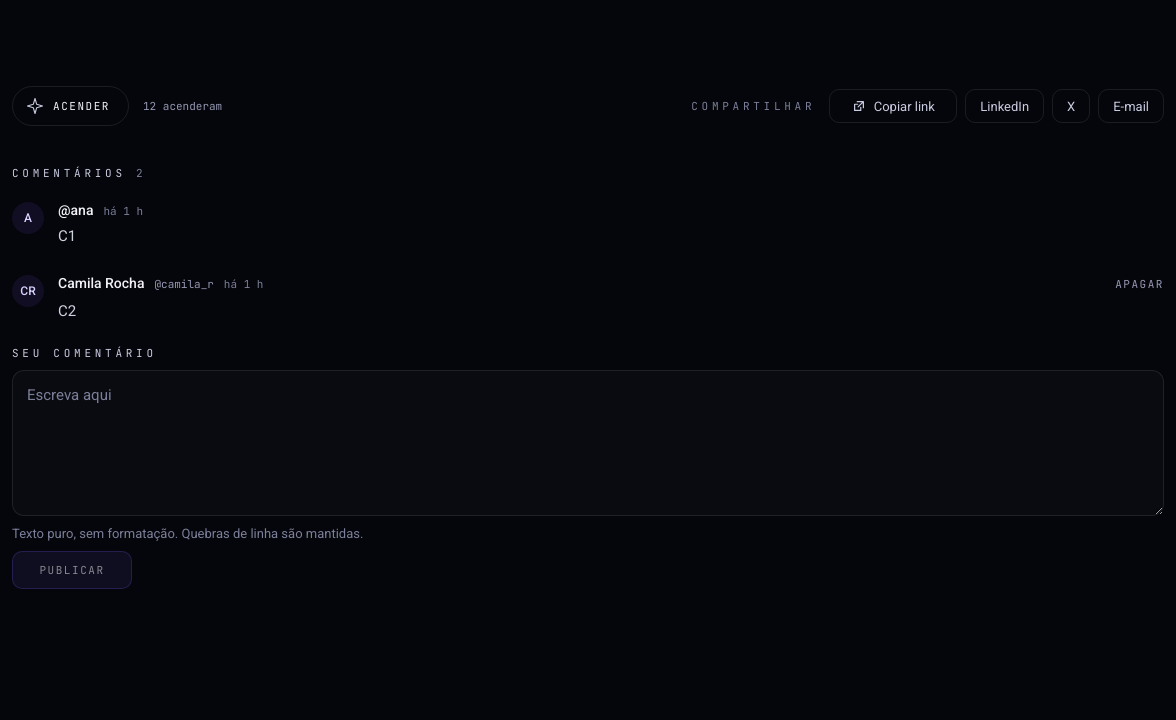
Scenario: fim de artigo, logado › acender é otimista e mostra a contagem como frase
Expected: the text "12 acenderam" is shown, [143,99,222,113]
Click the button "ACENDER": (70, 106) [12,86,129,126]
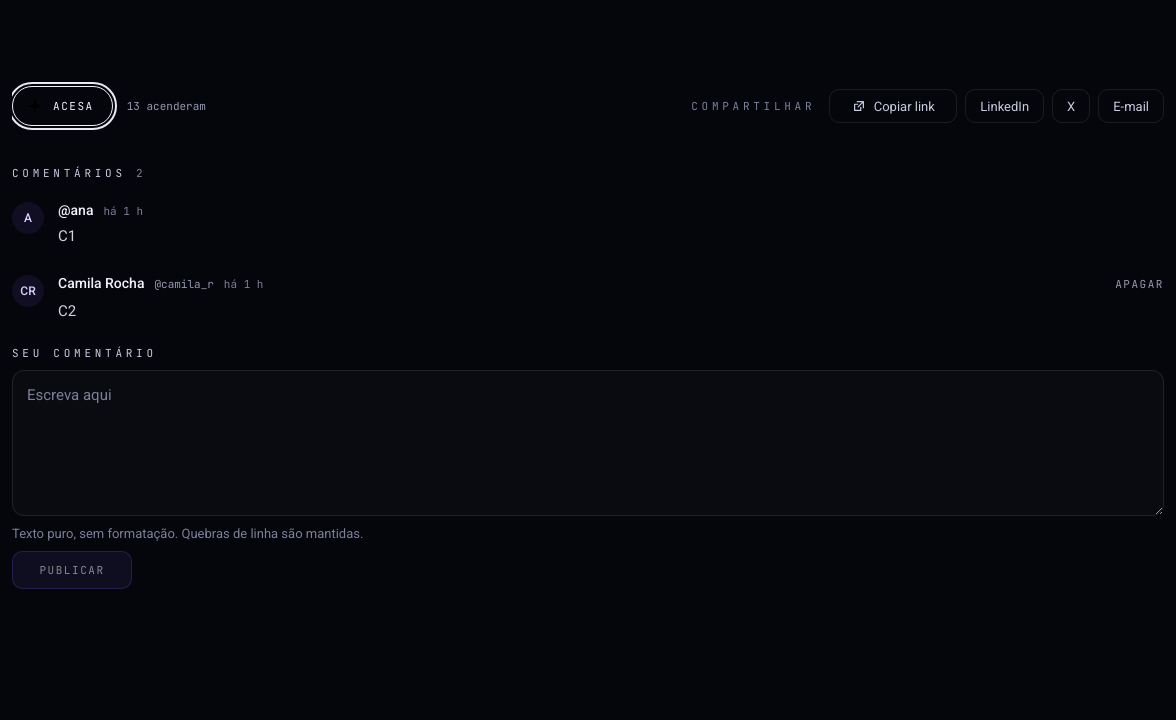
Expected: the text "13 acenderam" is shown, [127,99,206,113]
Expected: the button named "ACENDER" reads "ACESA", [12,86,113,126]
